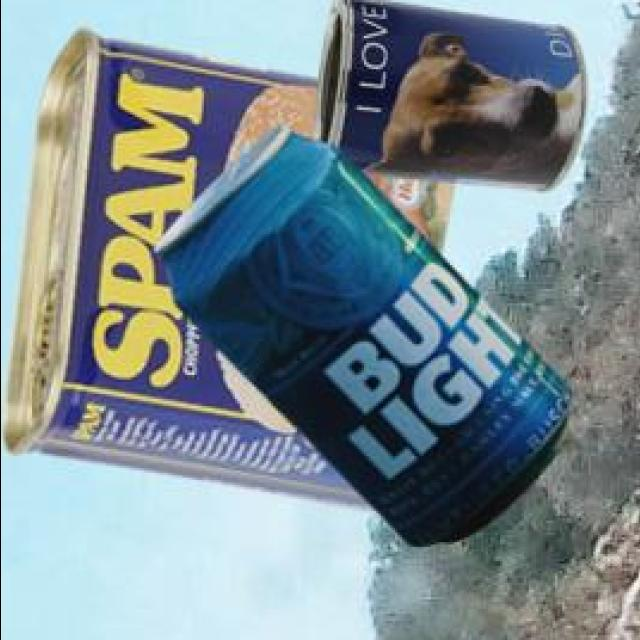logam: (0, 32, 450, 516), (149, 128, 567, 550), (309, 0, 581, 195)
